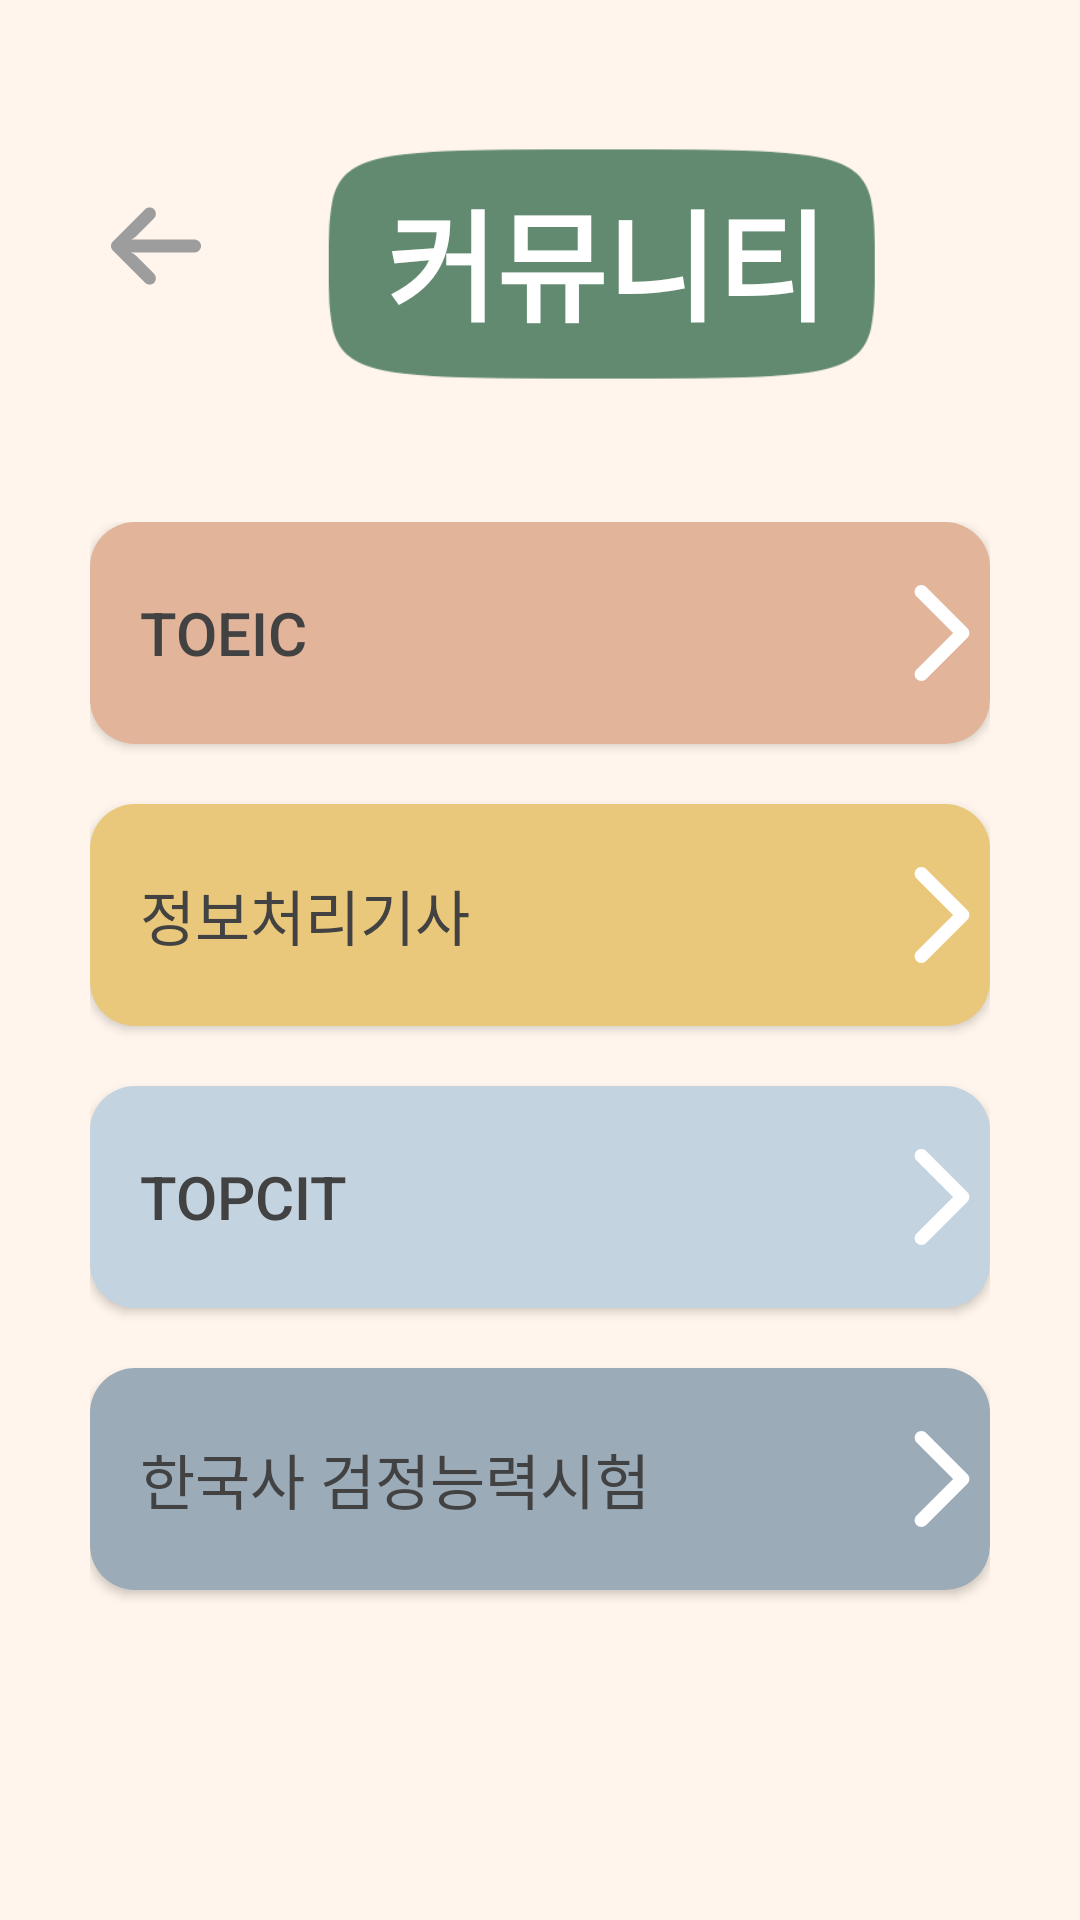

Icons on this 1080 x 1920 Android screen, each with its box as (x1, y1, x2, y2):
left arrow: (111, 207, 201, 285)
